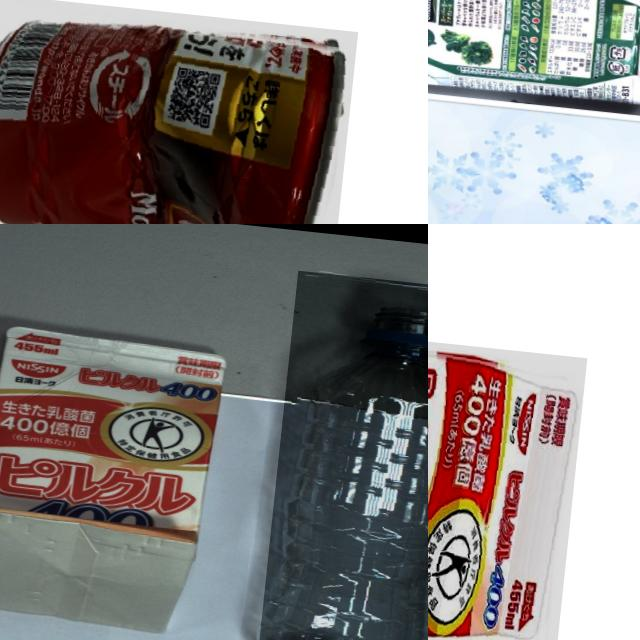Aluminium Foil: (0, 315, 236, 639), (428, 317, 586, 640), (428, 0, 640, 116)
Can: (0, 0, 356, 224)
Transparent Plastic Bottle: (255, 270, 428, 640)
